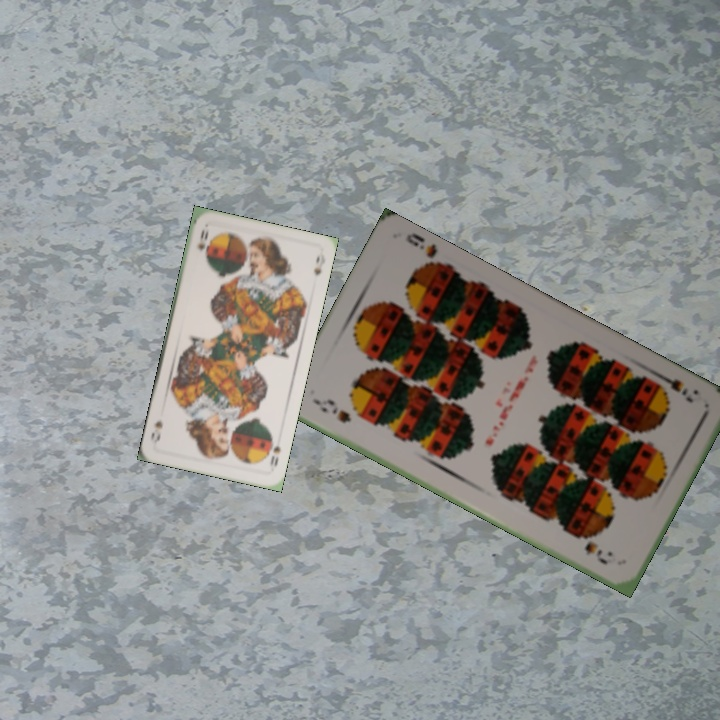S9: (649, 368, 696, 406), (310, 394, 354, 426)
SO: (264, 432, 283, 468), (193, 225, 211, 253)
